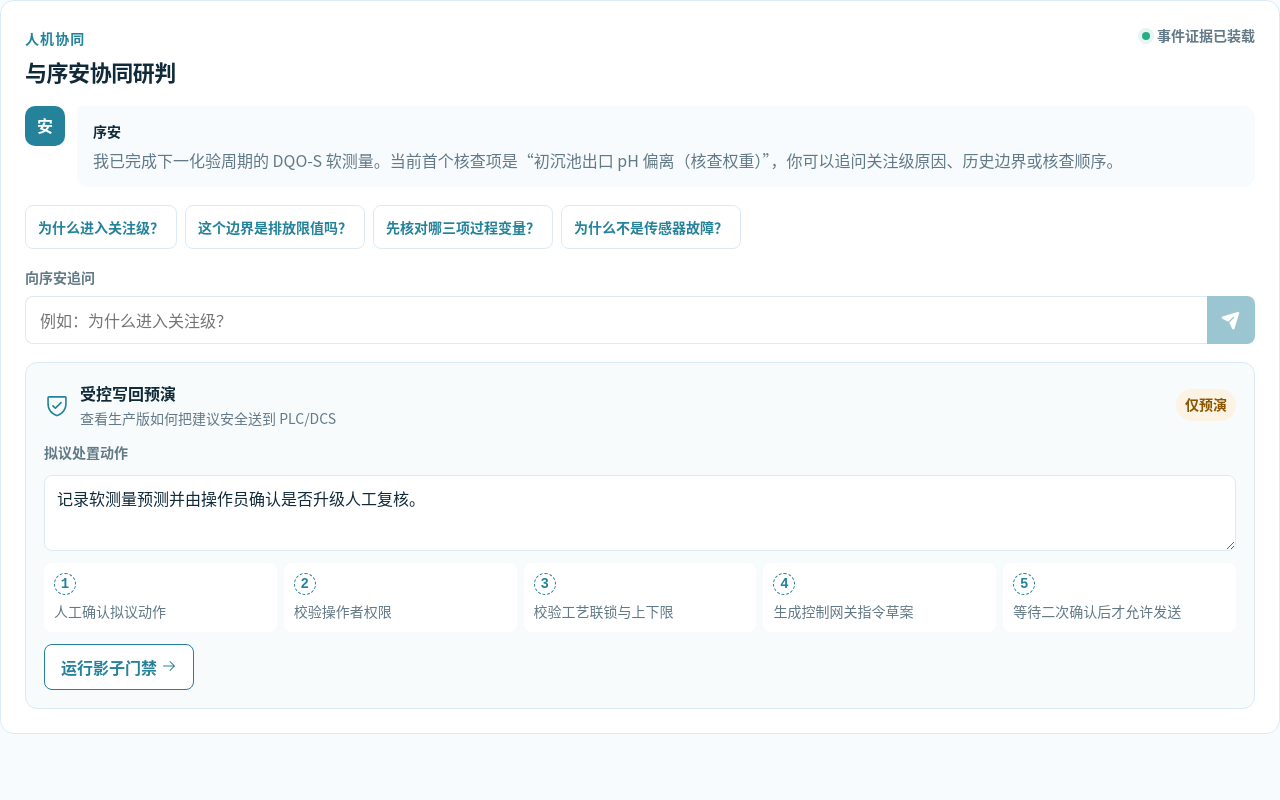
Test case: 事件协同研判在线 AI › 登录后快捷问题携带当前 token 请求 ask API 并展示在线结果
Step 1. Click the button "为什么不是传感器故障？" → point(651, 227), box [561, 205, 741, 249]
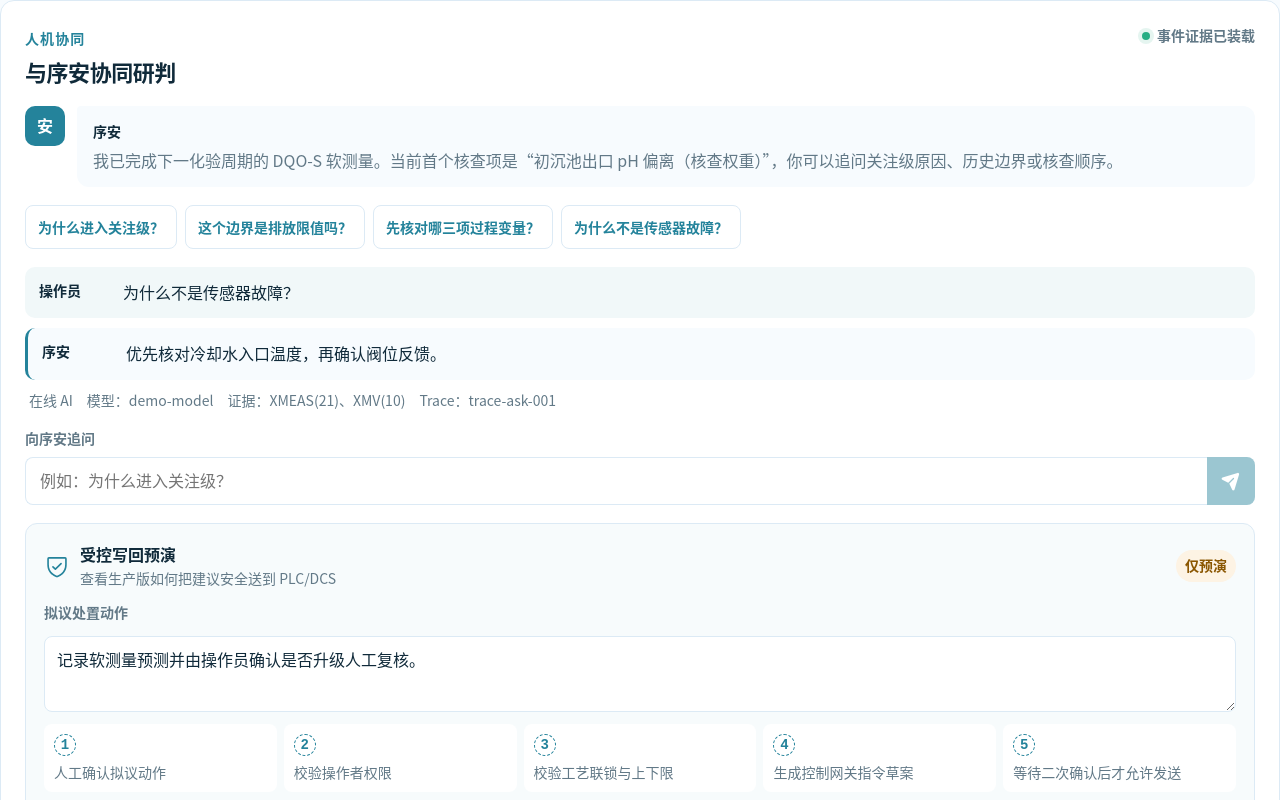
Now the text "优先核对冷却水入口温度，再确认阀位反馈。" is shown, box [126, 342, 446, 366]
Now the text "在线 AI" is shown, box [29, 390, 73, 410]
Now the text "模型：demo-model" is shown, box [87, 390, 214, 410]
